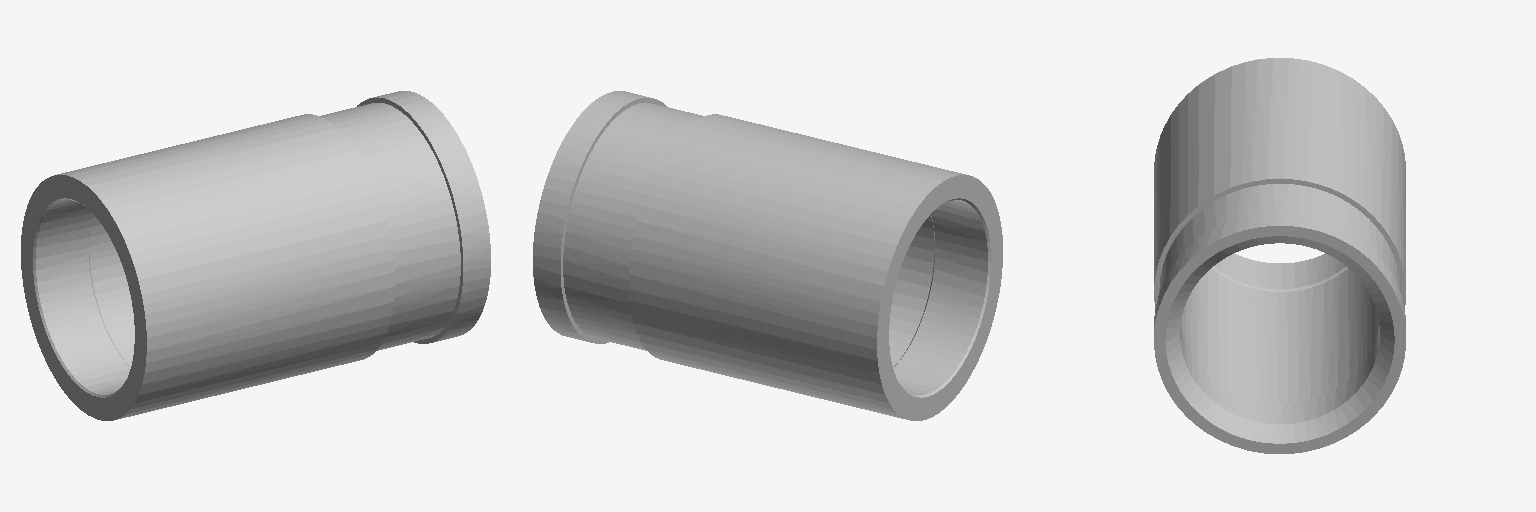
File: back protective shirt.obj
The picture shows the model from 3 angles: view 1: azimuth 30°, elevation 25°; view 2: azimuth 150°, elevation 25°; view 3: azimuth 270°, elevation 25°; orthographic projection.
Parts seen in each view (by area): view 1: imagetostl_mesh; view 2: imagetostl_mesh; view 3: imagetostl_mesh.
Boxes of the visible parts, <box> form: imagetostl_mesh: <box>21,91,490,420</box>; imagetostl_mesh: <box>533,91,1002,420</box>; imagetostl_mesh: <box>1154,58,1405,453</box>.
Bounding box in the file's own units: 189 × 120 × 120.